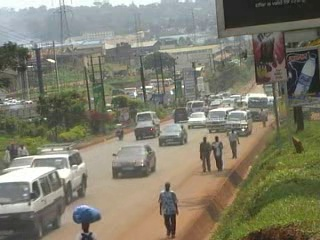Car: (25, 143, 91, 204), (109, 143, 156, 179), (155, 122, 191, 148), (1, 153, 40, 176), (133, 120, 161, 140), (185, 109, 209, 130), (172, 105, 192, 123), (209, 98, 224, 110)
Motorcycle: (114, 125, 125, 141)
